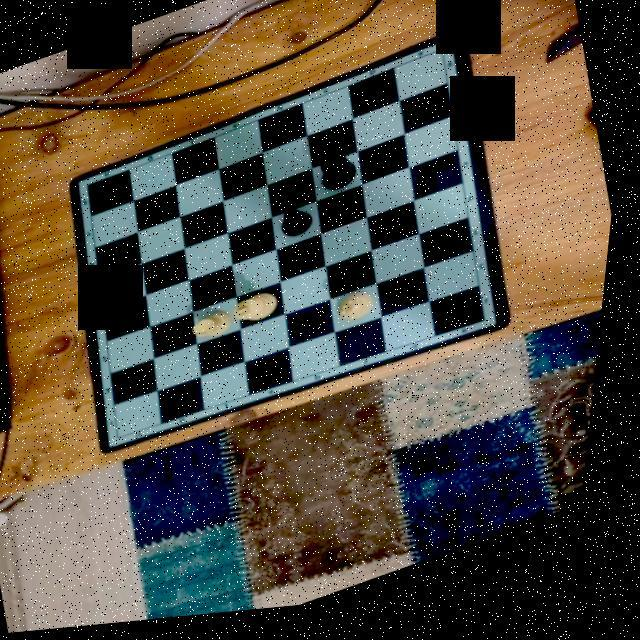chess-table-corners: (476, 316, 510, 345), (426, 44, 461, 72), (112, 426, 144, 456), (76, 170, 106, 198)
